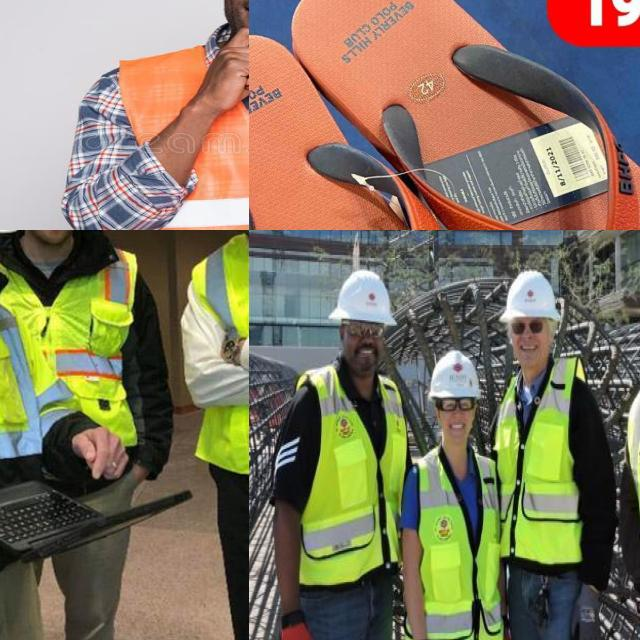Sandals: (249, 0, 640, 230)
face_nomask: (338, 320, 386, 387), (508, 313, 548, 375), (436, 395, 474, 441), (21, 230, 79, 255)
glasses: (341, 318, 388, 342), (508, 313, 548, 337), (438, 392, 474, 413)
hand_glove: (271, 603, 328, 640)
hand_noglove: (70, 416, 155, 489), (202, 30, 249, 118)
head_helmet: (325, 266, 400, 330), (494, 272, 567, 320), (423, 348, 486, 399)
person: (0, 230, 174, 640), (493, 269, 615, 640), (277, 266, 398, 640), (71, 0, 249, 230), (170, 230, 249, 640), (402, 348, 505, 640), (0, 230, 57, 640)
vest: (91, 45, 249, 230), (0, 237, 139, 427), (489, 366, 610, 566), (298, 364, 409, 561), (0, 288, 74, 567), (406, 444, 507, 640), (185, 230, 249, 452)
